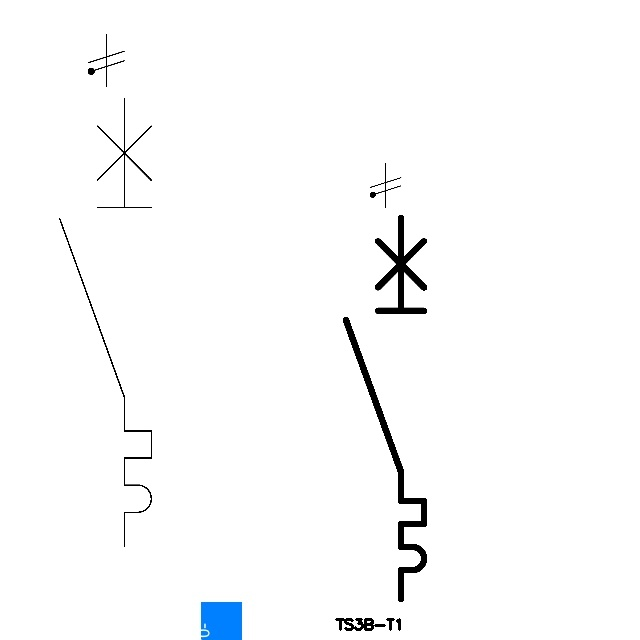interruptor_termomagnetico: (48, 87, 163, 558), (336, 208, 434, 609)
